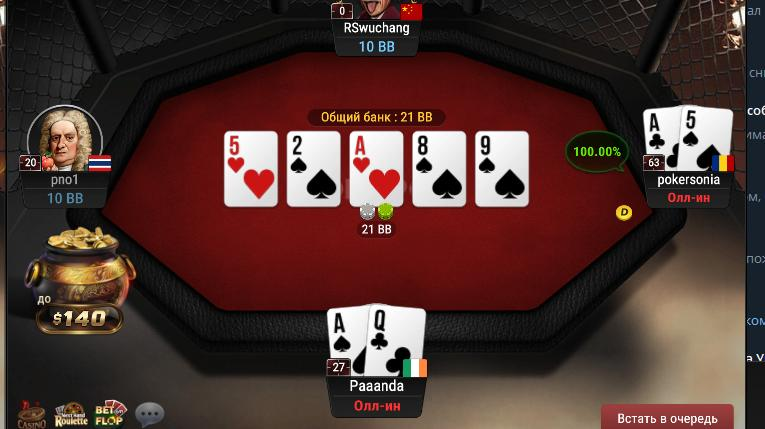2s: (287, 131, 341, 205)
5h: (225, 131, 277, 206)
5s: (681, 105, 732, 172)
8s: (413, 132, 465, 206)
9s: (475, 131, 528, 204)
Ac: (643, 108, 679, 171)
Ah: (351, 132, 404, 206)
As: (325, 307, 368, 376)
Qc: (368, 304, 422, 376)
